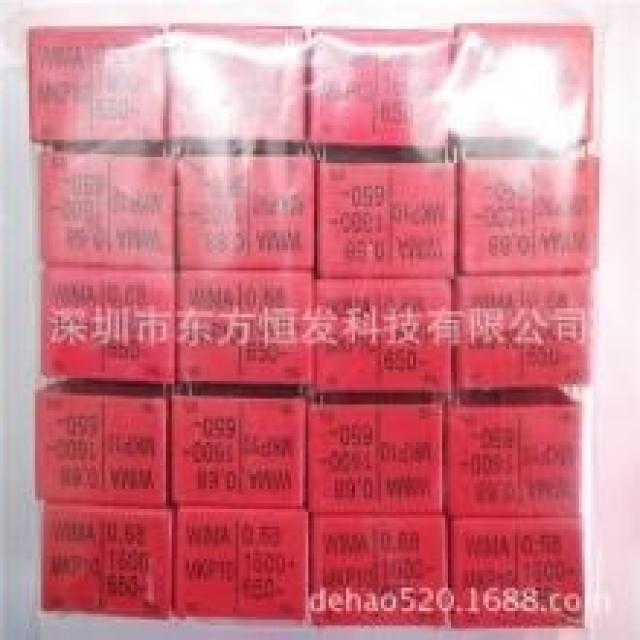box: (314, 145, 457, 279), (442, 387, 579, 521), (460, 148, 599, 279), (311, 29, 454, 154), (451, 23, 593, 148), (169, 384, 308, 509), (451, 271, 593, 390), (177, 145, 314, 268), (311, 279, 451, 399), (41, 148, 177, 271), (175, 503, 311, 625), (38, 500, 175, 620), (35, 381, 169, 503), (29, 26, 166, 145), (169, 23, 308, 140), (311, 512, 451, 628), (308, 396, 442, 515), (448, 515, 588, 628), (177, 268, 314, 381), (41, 268, 177, 381)
